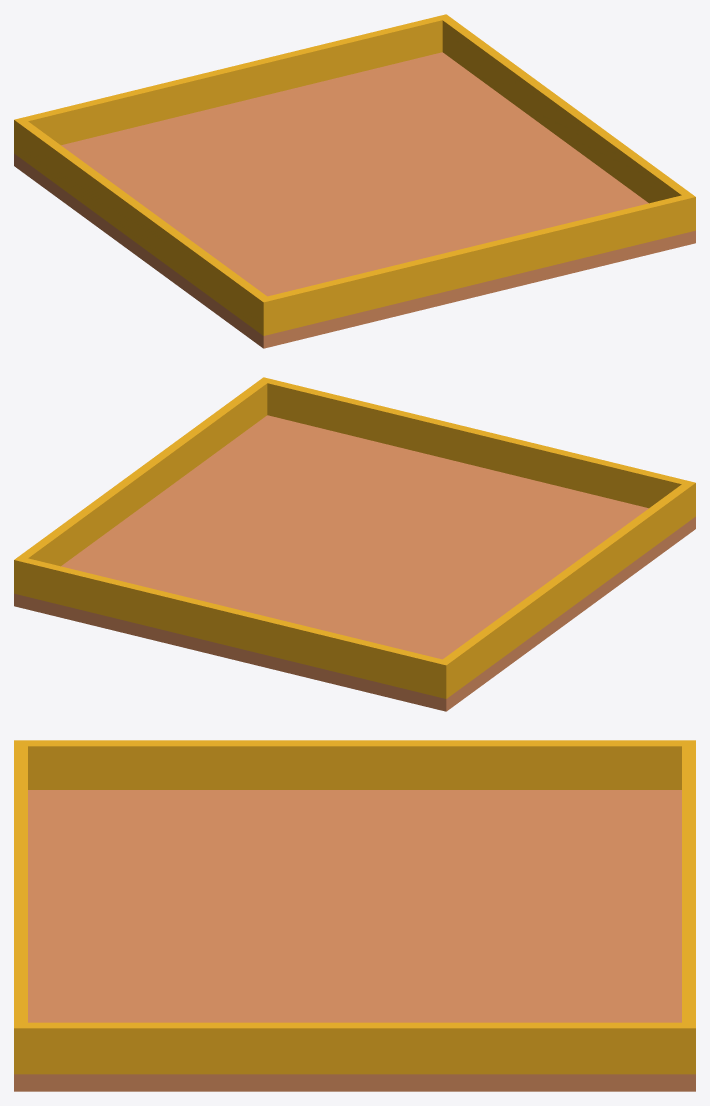
The model's file is border.fbx.
3 views of the same model, one above another, from view 1: azimuth 30°, elevation 25°; view 2: azimuth 150°, elevation 25°; view 3: azimuth 270°, elevation 25° (orthographic). The views are drawn at different scales.
Visible parts, largest first — view 1: Cube.029; view 2: Cube.029; view 3: Cube.029.
Part boxes in pixels (x1=…): Cube.029: x1=14, y1=14, x2=695, y2=348; Cube.029: x1=14, y1=377, x2=695, y2=711; Cube.029: x1=14, y1=740, x2=695, y2=1091.
Size of the model in its own units: 5.73 by 0.586 by 5.73.
